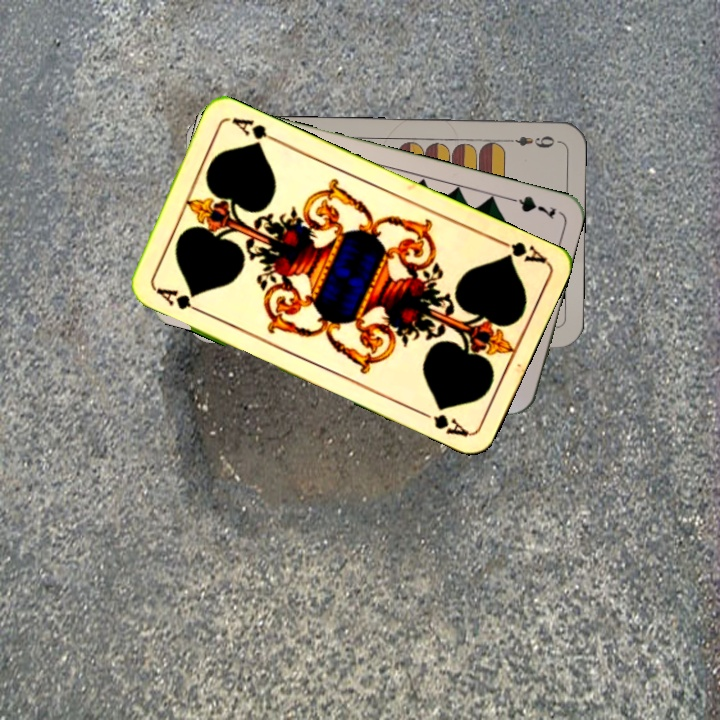E9: (501, 132, 557, 151)
G7: (501, 191, 559, 222)
GA: (491, 234, 548, 266), (150, 283, 205, 316)
